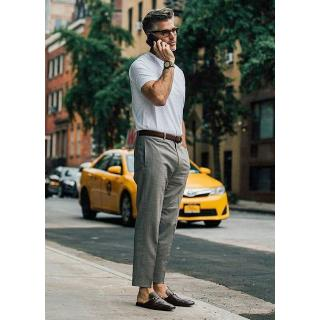loafers: (134, 274, 200, 316)
